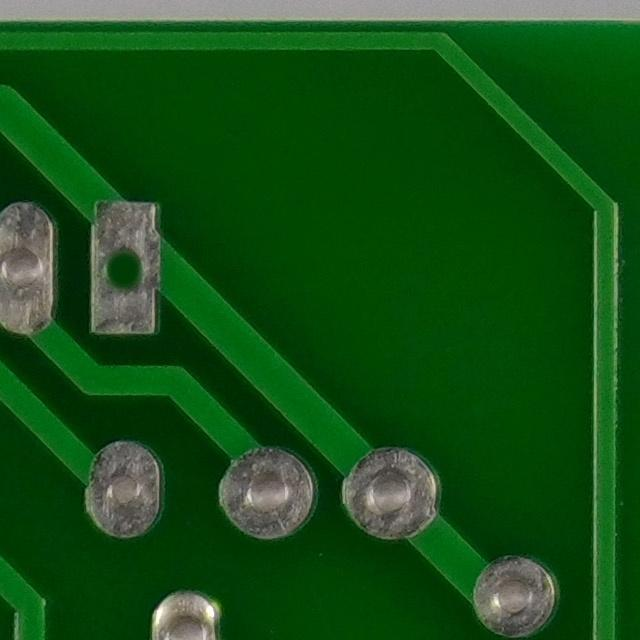missing_hole: (78, 222, 175, 314)
